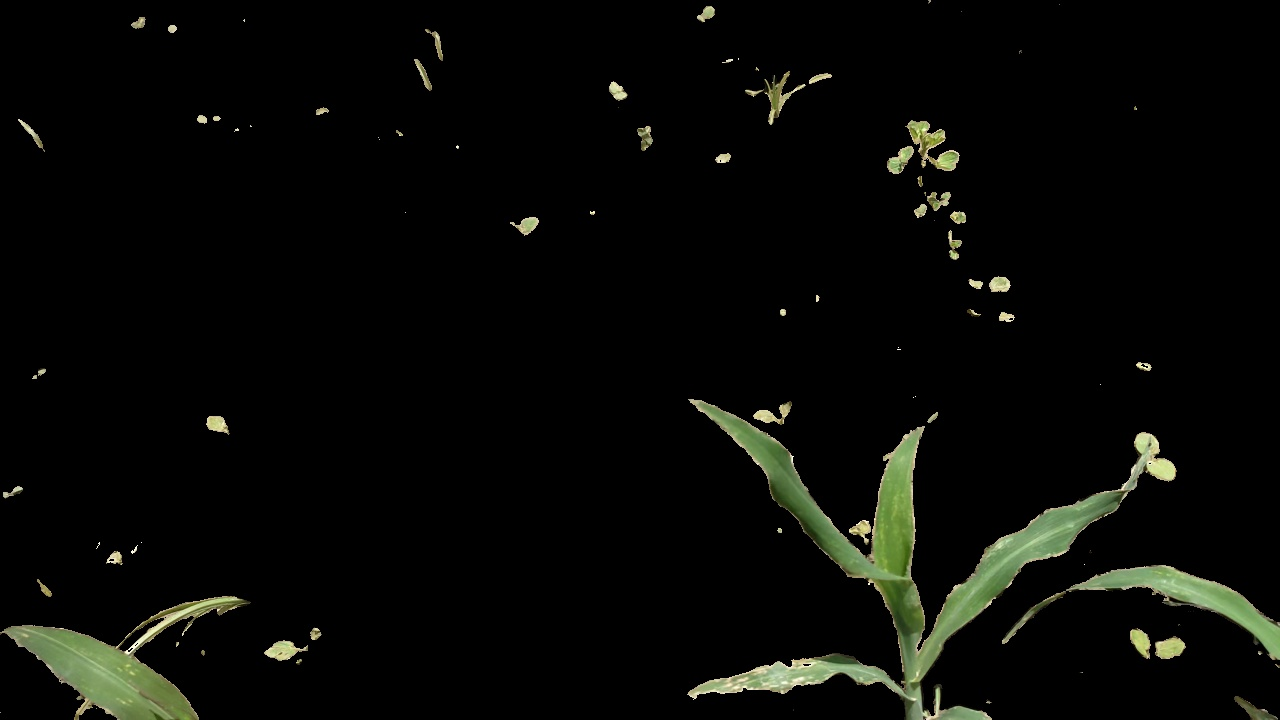crop: (692, 388, 1126, 714)
weed: (712, 54, 835, 138), (881, 99, 976, 182), (1141, 425, 1193, 484), (1123, 622, 1191, 665), (965, 265, 1026, 297), (261, 628, 323, 659), (195, 415, 243, 444), (506, 207, 553, 232), (751, 392, 788, 418)
